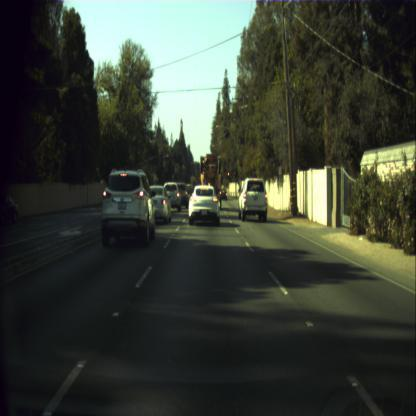Red: (226, 167, 228, 180)
